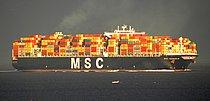Ship: (11, 23, 202, 74)
